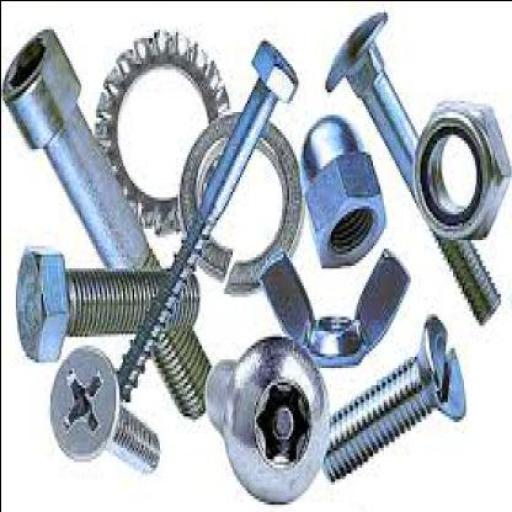metal: (0, 23, 212, 418), (114, 34, 296, 398), (322, 8, 498, 324), (91, 25, 228, 231), (320, 310, 464, 480), (6, 239, 198, 358), (200, 333, 328, 503), (176, 114, 298, 290), (257, 248, 410, 364), (47, 342, 159, 472), (408, 96, 509, 236), (300, 110, 383, 264)
